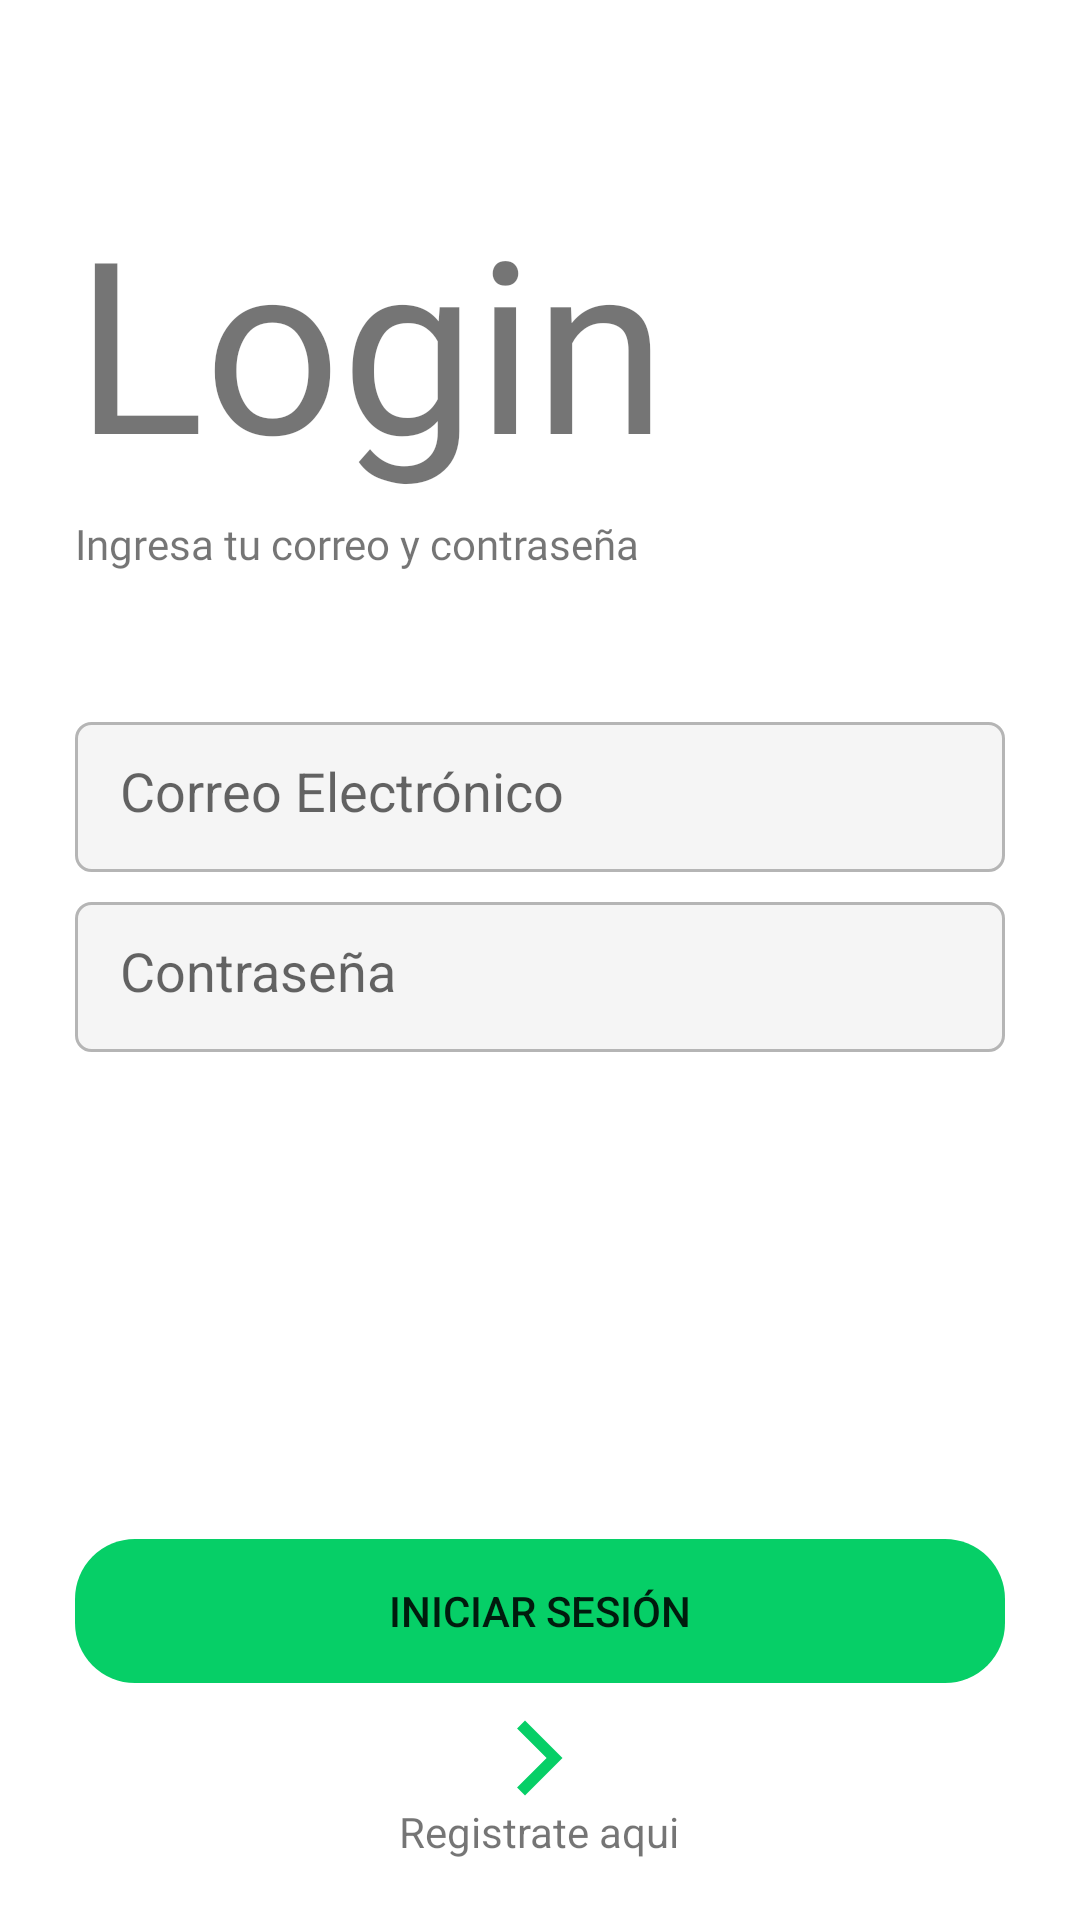

Where icons sit on this 1080px x 1920px app screen, as (x1=x1, y1=y1, x2=x2, y2=y2):
arrow: (x1=517, y1=1720, x2=563, y2=1796)
